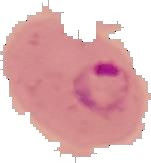parasitized: (68, 56, 136, 118)
